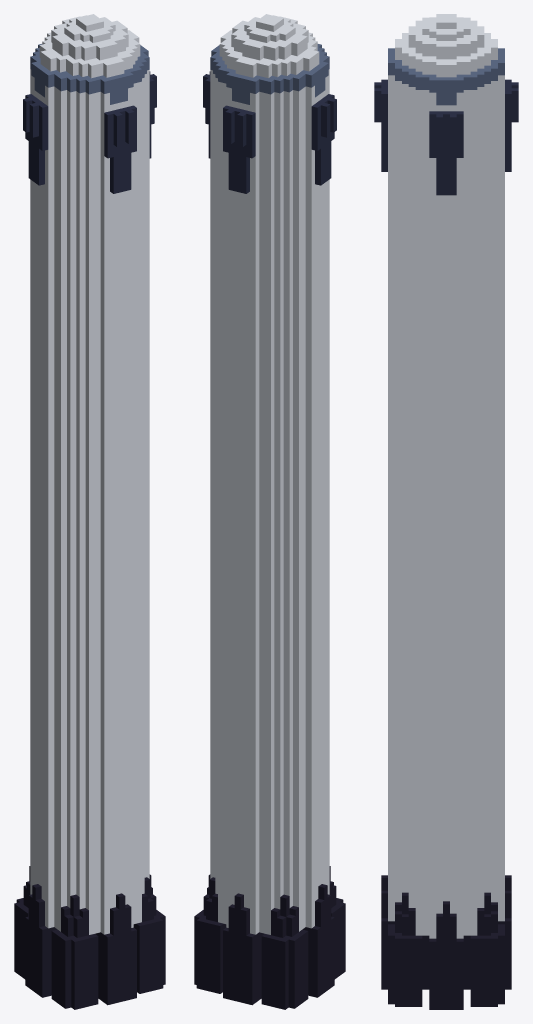
The model's file is pelicano_booster.obj.
The picture shows the model from 3 angles, left to right: view 1: azimuth 30°, elevation 25°; view 2: azimuth 150°, elevation 25°; view 3: azimuth 270°, elevation 25°; orthographic projection.
Bounding box in the file's own units: 2.1 × 15.5 × 2.1.
Materials: 1 (1 with a texture image).
